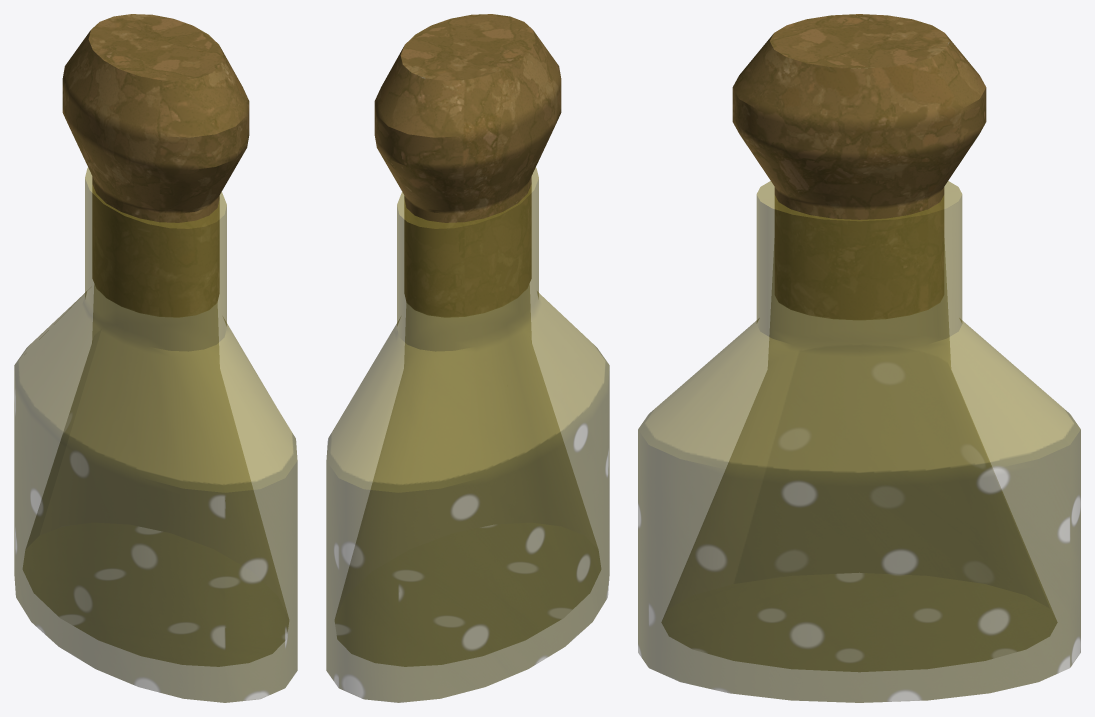
The model's file is medicine4.gltf.
3 views of the same model, side by side, from view 1: azimuth 30°, elevation 25°; view 2: azimuth 150°, elevation 25°; view 3: azimuth 270°, elevation 25° (orthographic). The views are drawn at different scales.
Parts seen in each view (by area): view 1: pCylinder1, pCylinder2; view 2: pCylinder1, pCylinder2; view 3: pCylinder1, pCylinder2.
Boxes of the visible parts, left/top/right/bottom form: pCylinder1: left=14, top=168, right=297, bottom=702; pCylinder2: left=62, top=14, right=249, bottom=317; pCylinder1: left=326, top=168, right=609, bottom=702; pCylinder2: left=374, top=14, right=561, bottom=317; pCylinder1: left=638, top=181, right=1080, bottom=702; pCylinder2: left=732, top=14, right=986, bottom=319.
Size of the model in its own units: 0.0658 by 0.1861 by 0.1222.
Materials: 1 (1 with a texture image).
